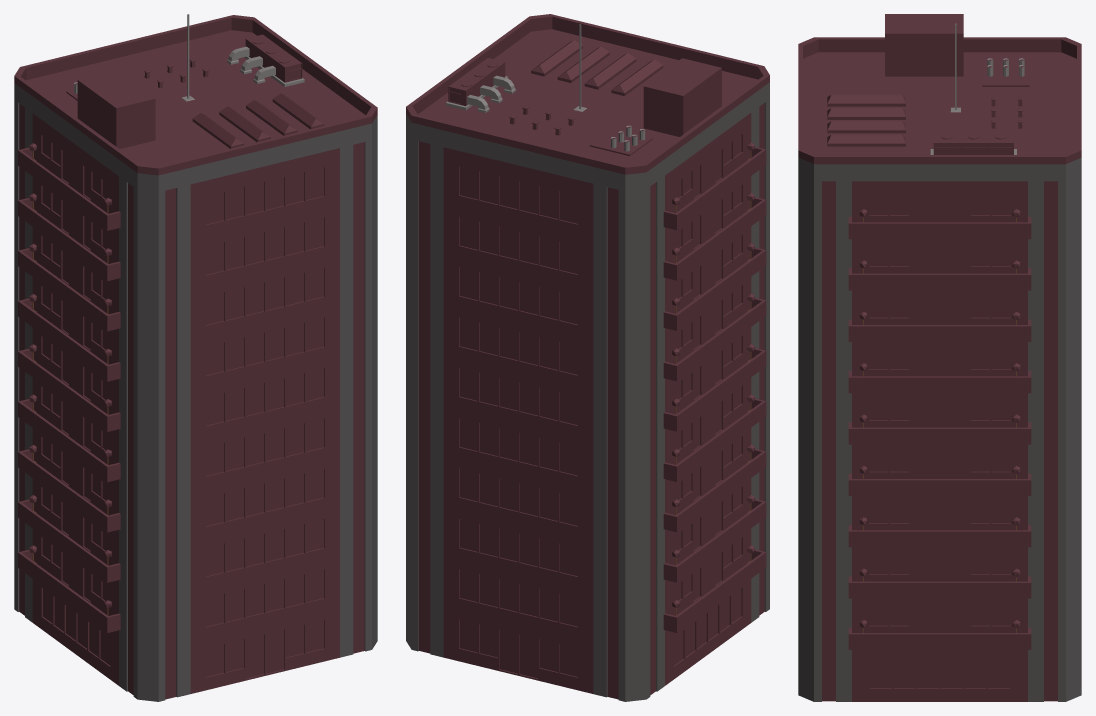
The model's file is building-office-balcony.fbx.
The picture shows the model from 3 angles, left to right: view 1: azimuth 30°, elevation 25°; view 2: azimuth 150°, elevation 25°; view 3: azimuth 270°, elevation 25°; orthographic projection. The views are drawn at different scales.
Visible parts, largest first — view 1: building-office-balcony; view 2: building-office-balcony; view 3: building-office-balcony.
Part boxes in pixels (x1,y1,x2,y2): building-office-balcony: (14,14,377,701); building-office-balcony: (406,14,769,701); building-office-balcony: (798,14,1081,701).
Bounding box in the file's own units: 20 × 43.33 × 18.
